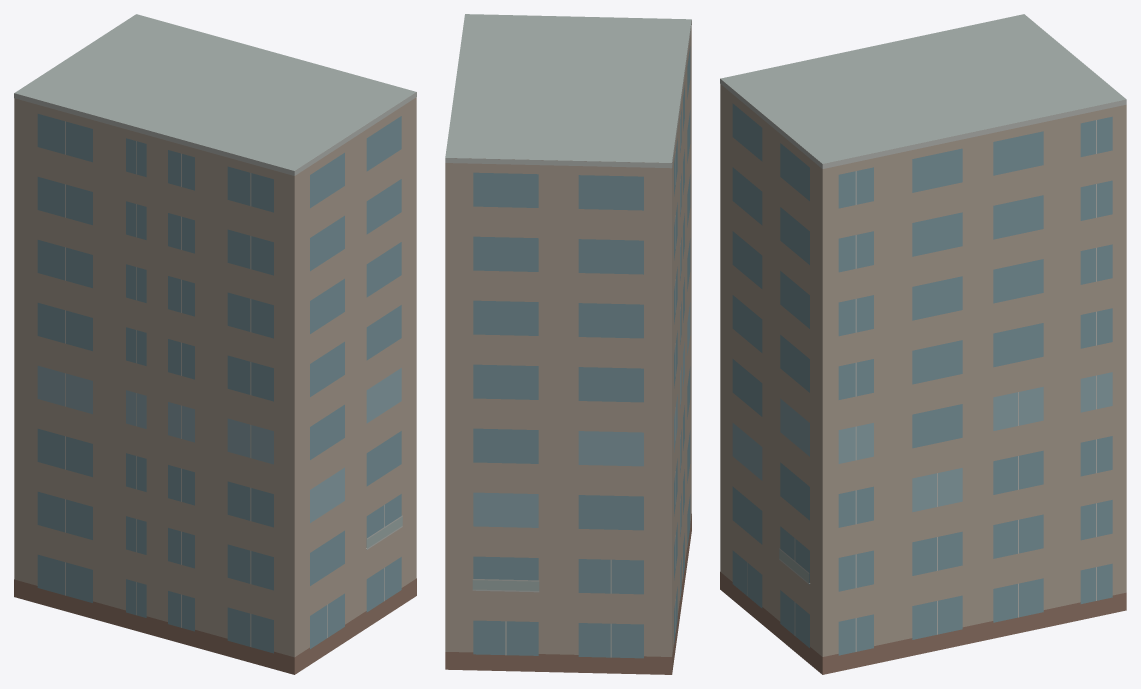
File: survey-upis-32741953.glb
The picture shows the model from 3 angles, left to right: view 1: azimuth 30°, elevation 25°; view 2: azimuth 150°, elevation 25°; view 3: azimuth 270°, elevation 25°; orthographic projection.
Visible parts, largest first — view 1: survey-upis-32741953.tmp; view 2: survey-upis-32741953.tmp; view 3: survey-upis-32741953.tmp.
Part boxes in pixels (<box>): survey-upis-32741953.tmp: <box>14,14,416,674</box>; survey-upis-32741953.tmp: <box>445,14,691,674</box>; survey-upis-32741953.tmp: <box>720,14,1126,674</box>.
Bounding box in the file's own units: 15.38 × 24.4 × 17.61.
